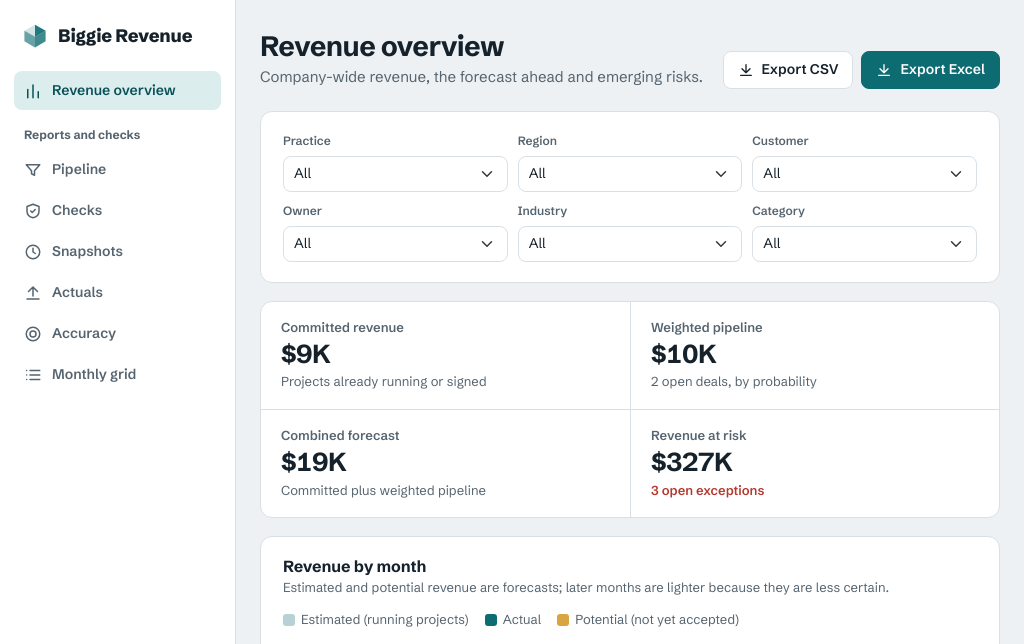
Test case: Quality tab and Forecast Health › lets leadership run the checks and shows the outcome
Click the button "Checks". click: (118, 210)
box: [14,191,221,230]
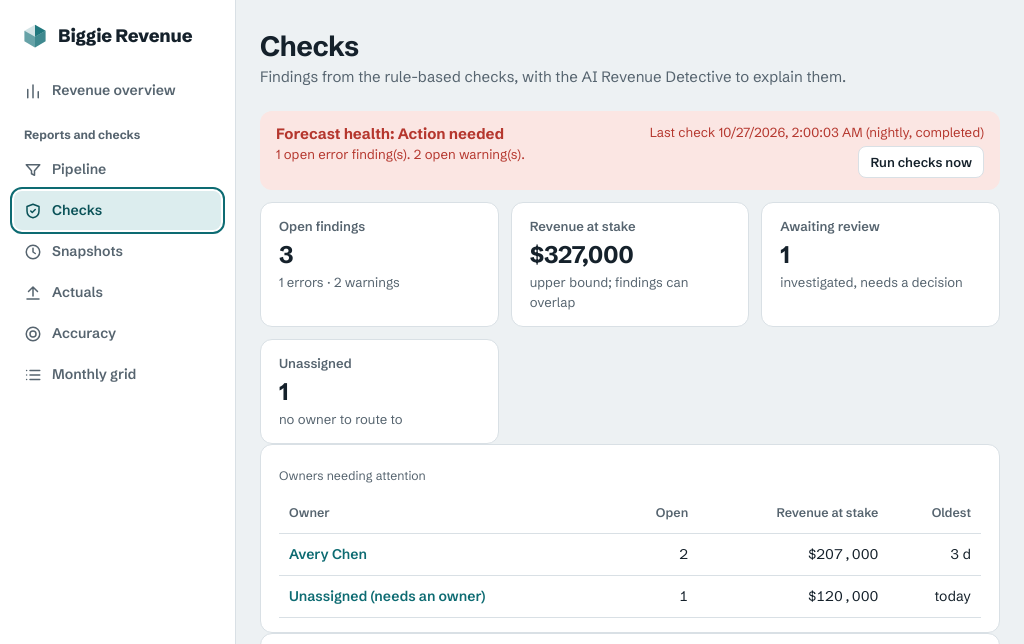
Click the button "Run checks now". click: (921, 162)
box: [858,146,984,178]
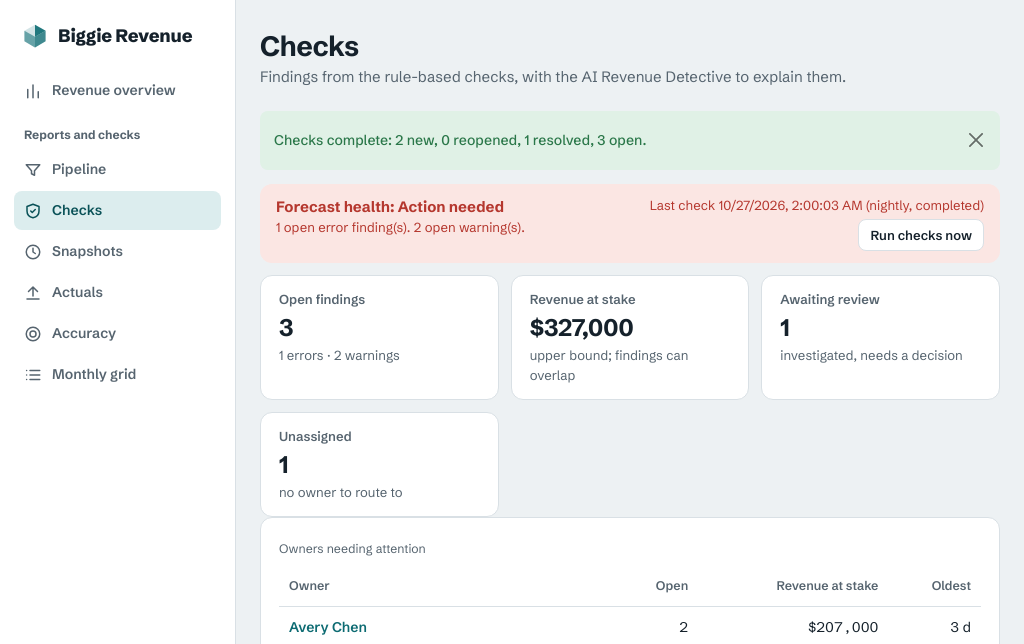
Expected: the text "Checks complete: 2 new, 0 reopened, 1 resolved, 3 open." is shown, [274,130,646,151]
